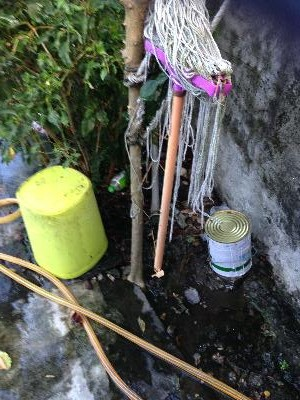bucket: (13, 164, 113, 284), (202, 208, 256, 283)
